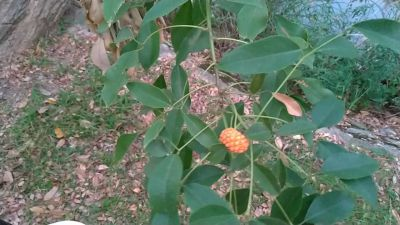eggs: (216, 122, 251, 156)
